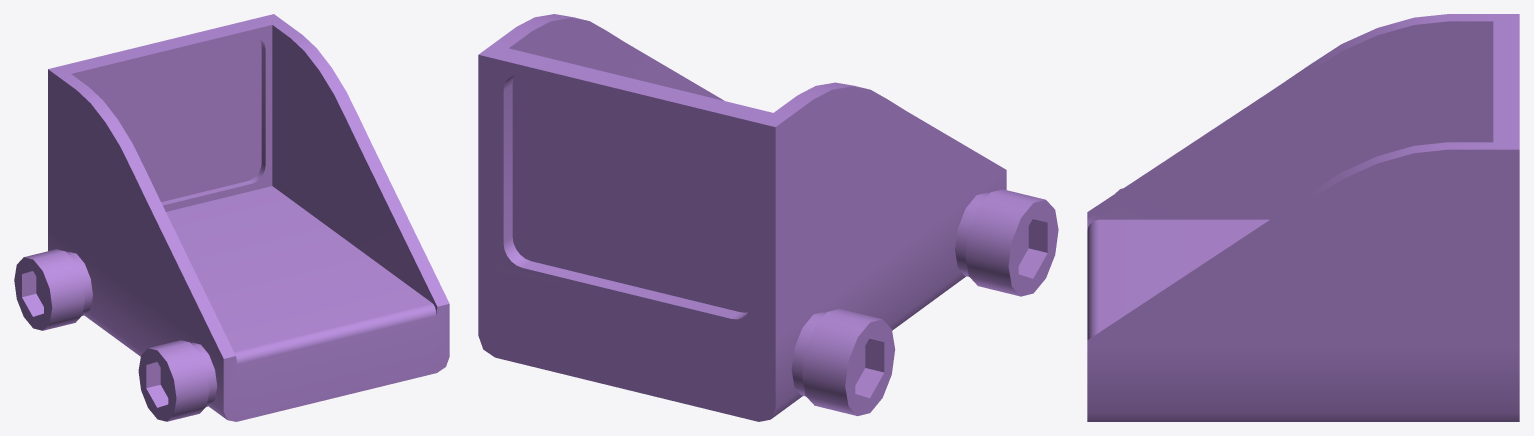
Rendered from Scope_collimator.fbx.
3 renders of one model, left to right at view 1: azimuth 30°, elevation 25°; view 2: azimuth 150°, elevation 25°; view 3: azimuth 270°, elevation 25°, orthographic. The views are drawn at different scales.
Visible parts, largest first — view 1: Collimator, Collimator.001; view 2: Collimator, Collimator.001; view 3: Collimator.
Boxes of the visible parts, left/top/right/bottom form: Collimator: left=14, top=14, right=449, bottom=421; Collimator.001: left=83, top=37, right=261, bottom=201; Collimator: left=478, top=14, right=1058, bottom=421; Collimator.001: left=512, top=75, right=750, bottom=312; Collimator: left=1087, top=14, right=1519, bottom=421.
Size of the model in its own units: 27.19 by 21.97 by 30.73.
